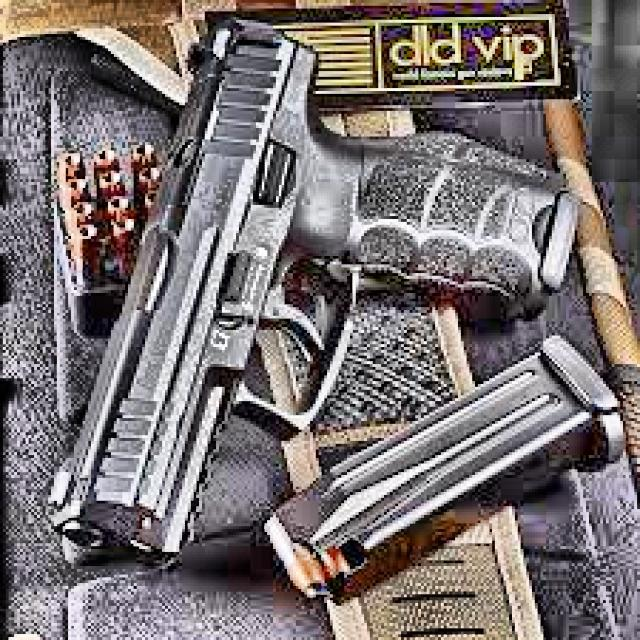HKVP9: (46, 17, 580, 573)
